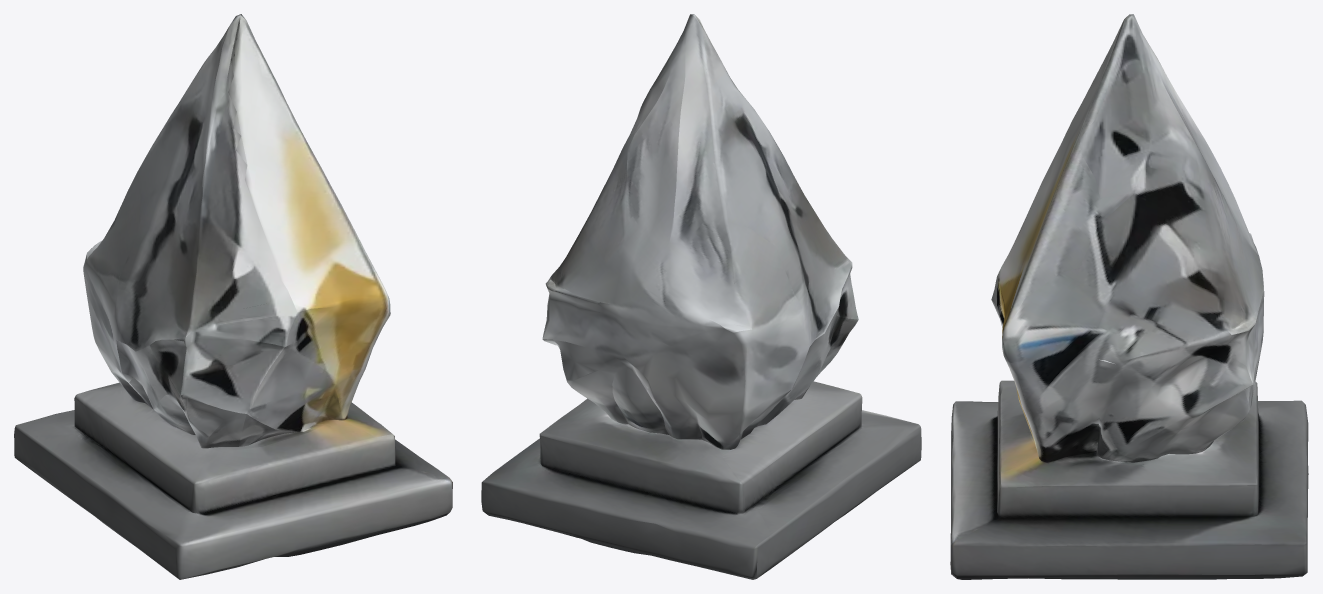
File: m2LaserPrism.glb
3 views of the same model, side by side, from view 1: azimuth 30°, elevation 25°; view 2: azimuth 150°, elevation 25°; view 3: azimuth 270°, elevation 25° (orthographic). The views are drawn at different scales.
Visible parts, largest first — view 1: model; view 2: model; view 3: model.
Part boxes in pixels (x1,y1,x2,y2): model: [14, 14, 452, 579]; model: [481, 14, 921, 579]; model: [950, 14, 1308, 579].
Bounding box in the file's own units: 1.11 × 1.89 × 1.18.
1 material, 1 textured.
